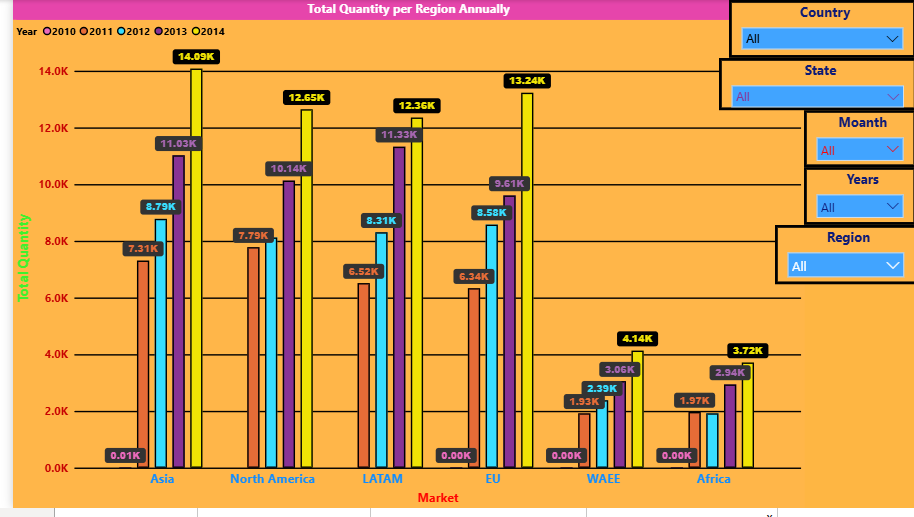

This screenshot's page, from the dashboard's own definition file:
{"tool":"powerbi","page":{"name":"Page 3 \\3 Quantity report 2","canvas":[1280,720],"ordinal":3},"visuals":[{"type":"clusteredColumnChart","title":"Total Quantity per Region Annually","fields":{"Category":["Dim_Customer.Market"],"Series":["Dim_Date.Year"],"Y":["fact table Global _ Superstore _ Cleaned.Total Quantity"]},"box":[0,0,1121.7,719.8],"z":0},{"type":"slicer","title":"Years ","fields":{"Values":["Dim_Date.Year"]},"box":[1121.2,236.8,158.8,82.2],"z":1000},{"type":"slicer","title":"Moanth","fields":{"Values":["Dim_Date.Month Name","Dim_Date.Month"]},"box":[1121.2,156,158.8,80.8],"z":2000},{"type":"slicer","title":"State","fields":{"Values":["Dim_Product.Category"]},"box":[1000,82.2,280,73.8],"z":3000},{"type":"slicer","title":"Country","fields":{"Values":["Dim_Customer.Country"]},"box":[1015.4,0,264.6,82.2],"z":4000},{"type":"slicer","title":"Region","fields":{"Values":["Dim_Customer.Region"]},"box":[1079.4,319,200.6,83.6],"z":5000}]}

Visuals, with their boxes in screenshot pixels (x1, y1, x2, y2), scaled from the page's 1280x720 canvas onto the 914x517 screenshot:
"Total Quantity per Region Annually" clusteredColumnChart: 0/0/801/516
"Years " slicer: 801/170/913/229
"Moanth" slicer: 801/112/913/170
"State" slicer: 714/59/913/112
"Country" slicer: 725/0/913/59
"Region" slicer: 771/229/913/289
